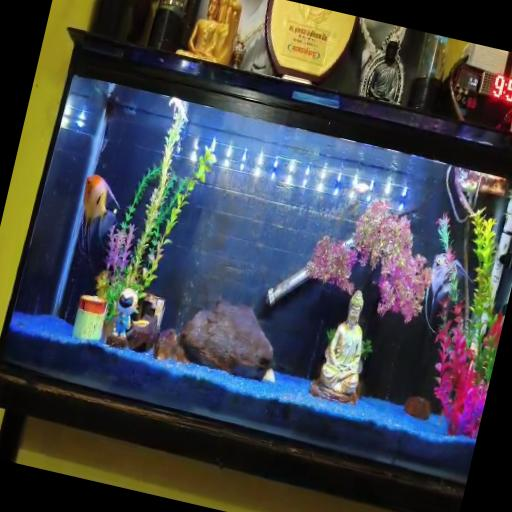Fish: (80, 176, 119, 253), (425, 254, 451, 333)
